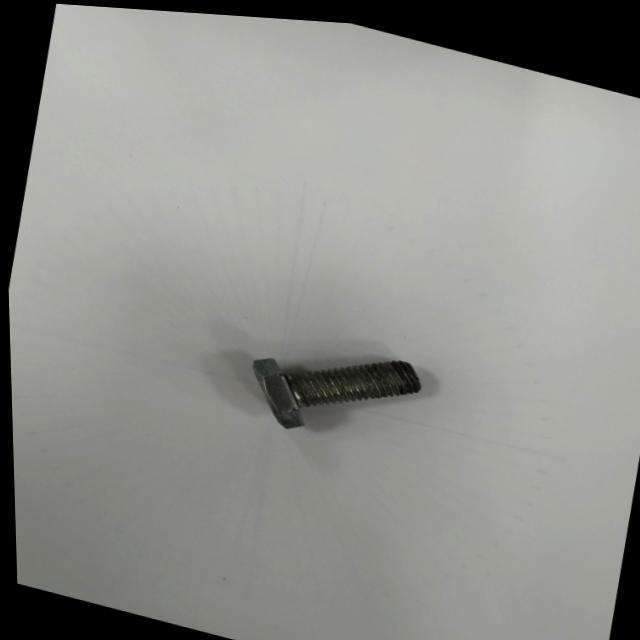Bolt: (251, 355, 417, 425)
